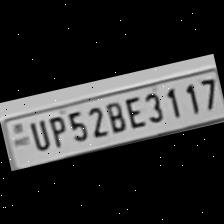1: (159, 82, 185, 120), (178, 78, 202, 116)
2: (82, 100, 108, 140)
3: (138, 86, 166, 125)
5: (62, 105, 88, 144)
7: (192, 72, 222, 112)
B: (100, 96, 127, 133)
E: (121, 92, 146, 130)
P: (43, 111, 68, 149)
U: (23, 114, 51, 153)
